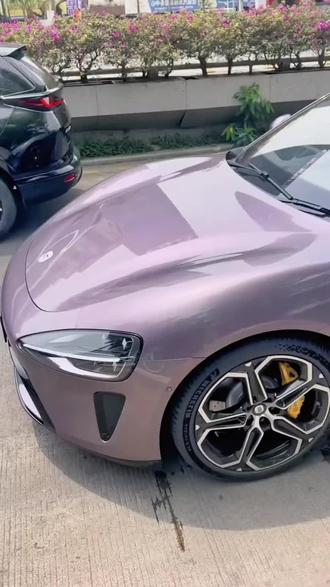su7: (3, 90, 330, 481)
